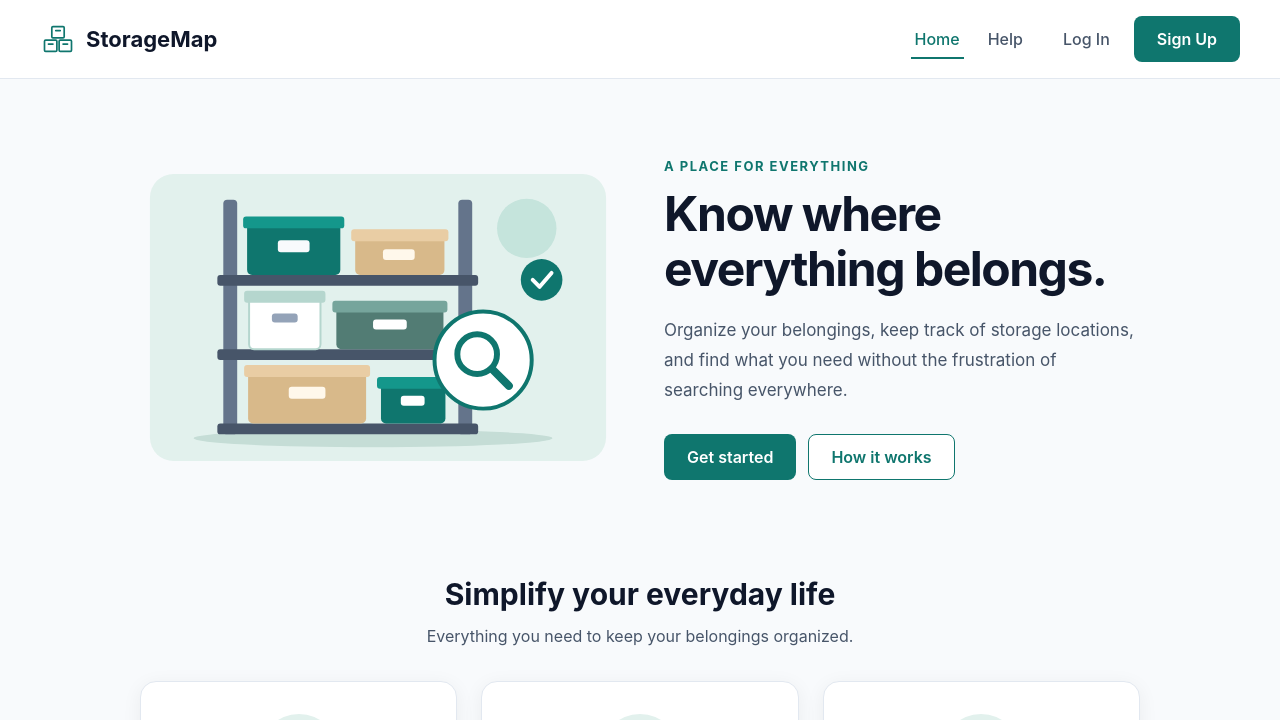
Test: opens the inventory from the homepage when logged in
Click the button "Log In": [1086, 39] box [1059, 21, 1114, 57]
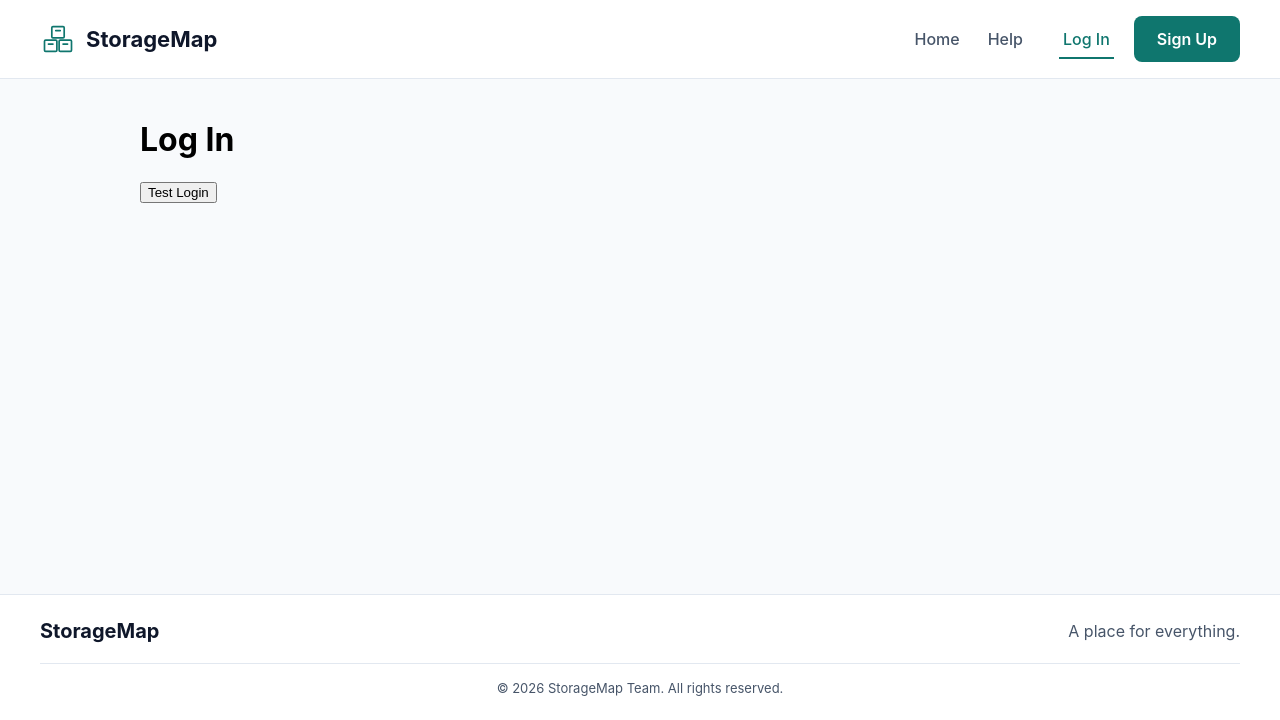
Click the button "Test Login": [178, 192] box [140, 182, 217, 203]
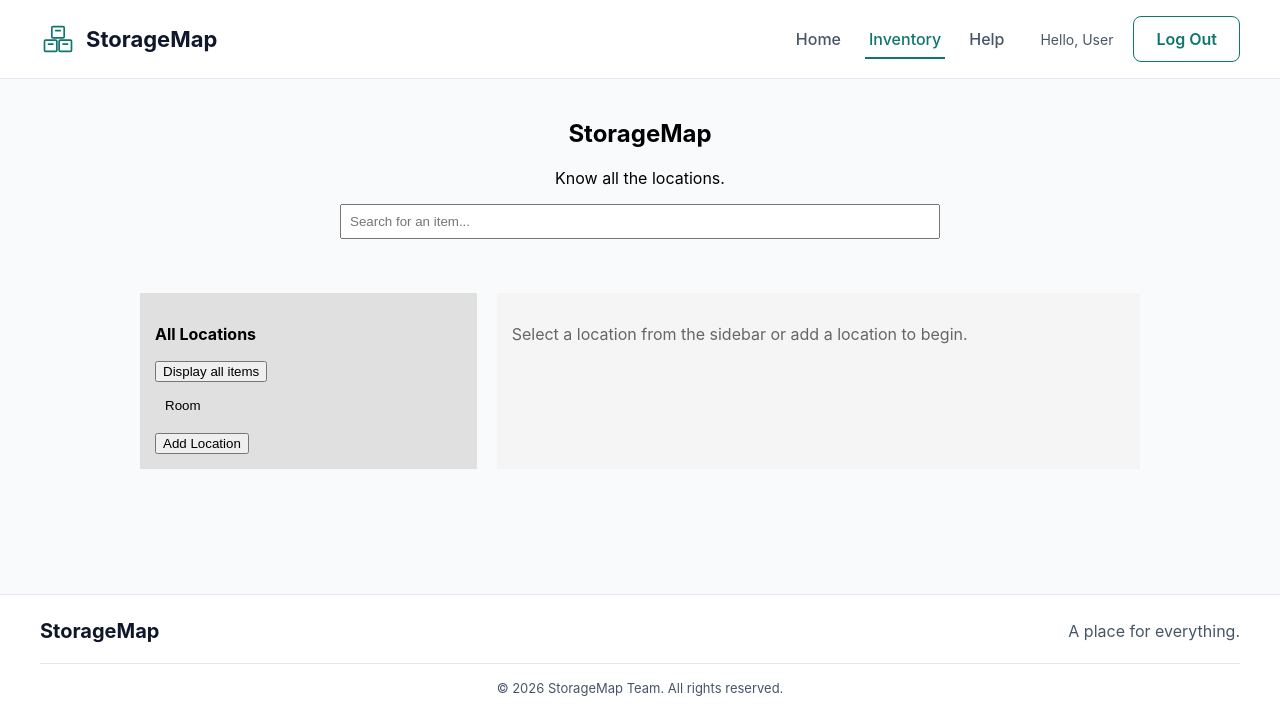
Expected: the button "Room" is shown, [155, 392, 462, 419]
Click the button "Home": [818, 39] box [792, 21, 845, 57]
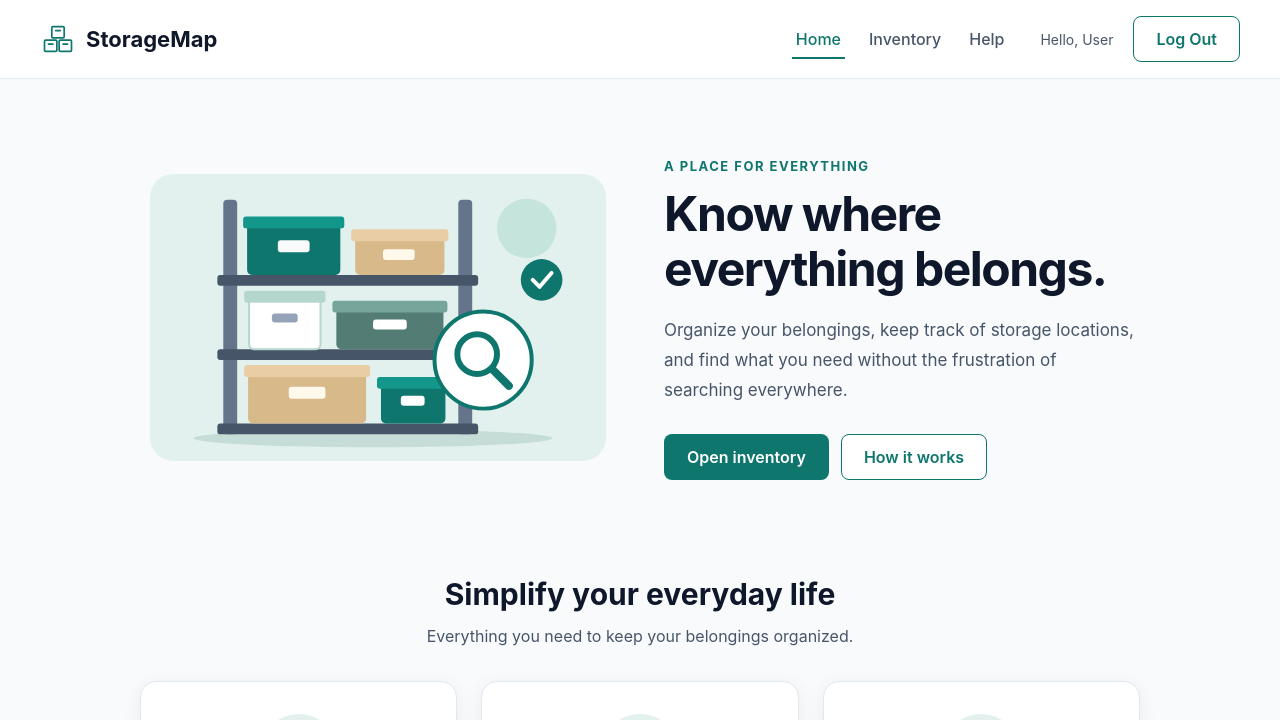
Expected: the button "Get started" is not shown
Click the button "Open inventory": [746, 457] box [664, 434, 829, 480]
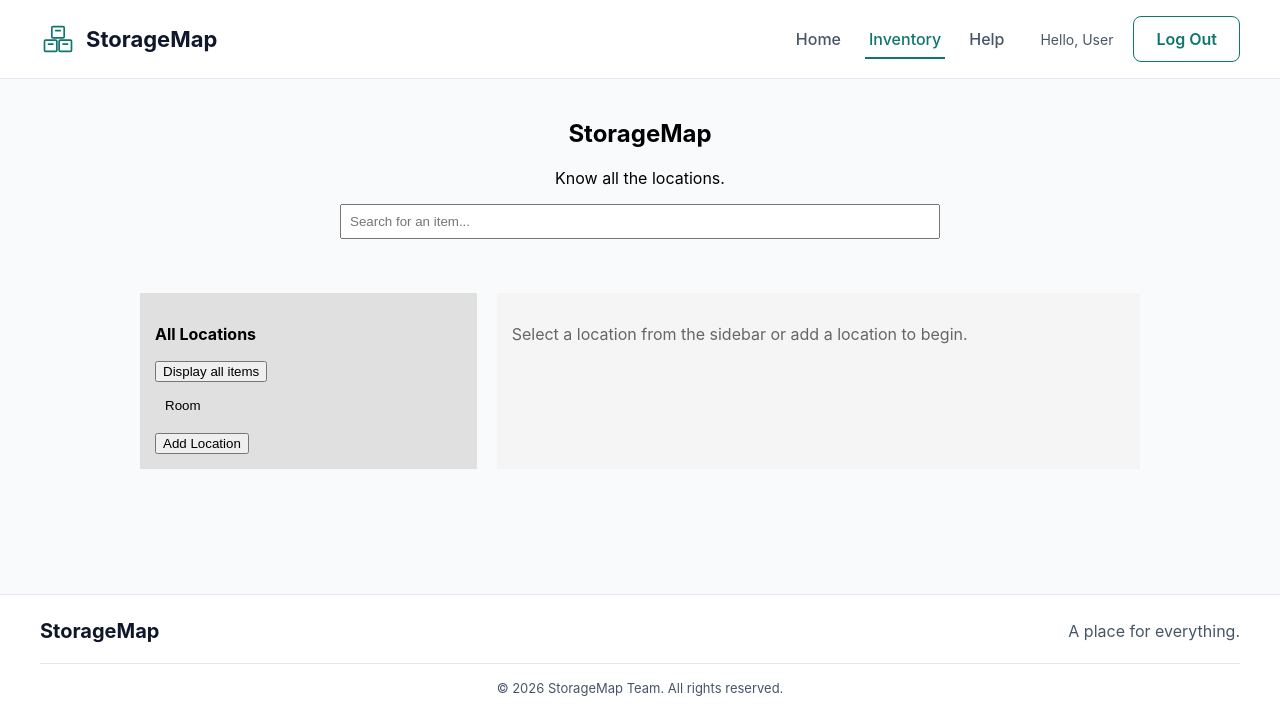
Expected: the button "Room" is shown, [155, 392, 462, 419]
